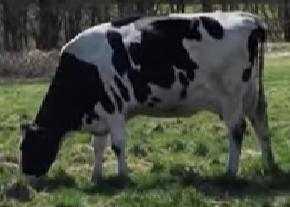cow: (19, 12, 274, 183)
